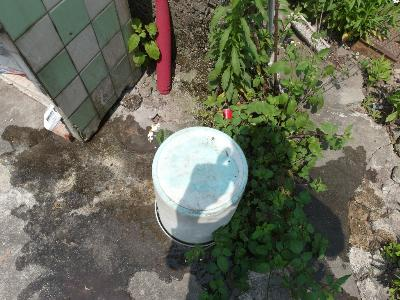bucket: (148, 122, 256, 252)
